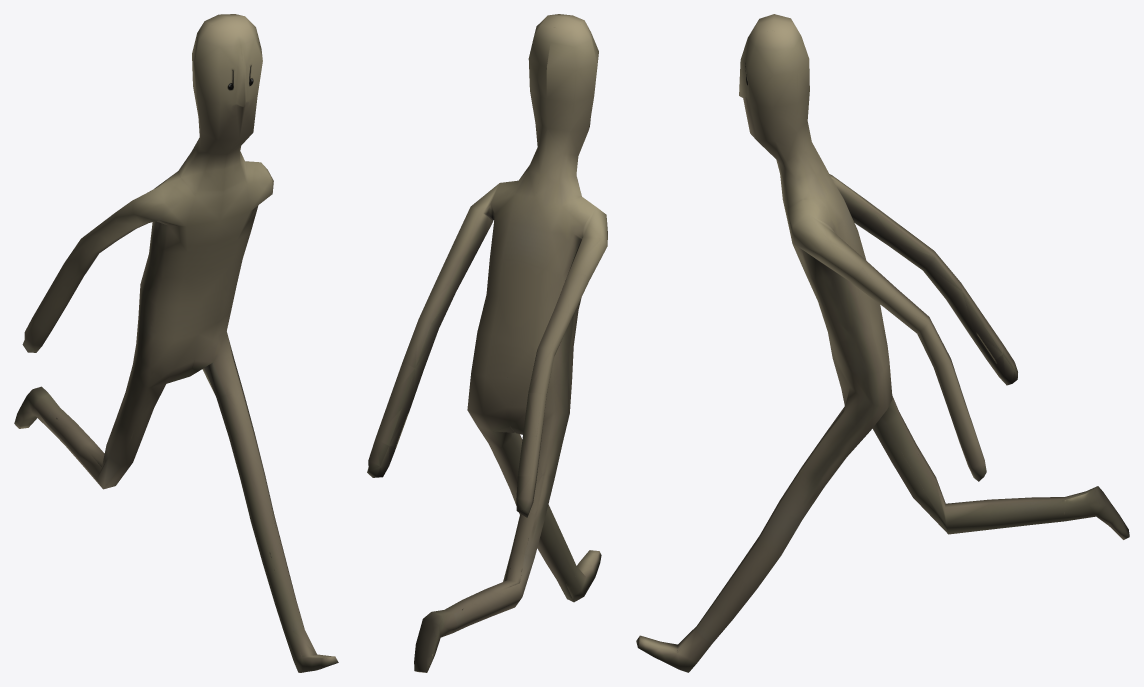
Rendered from noma.obj.
3 renders of one model, left to right at view 1: azimuth 30°, elevation 25°; view 2: azimuth 150°, elevation 25°; view 3: azimuth 270°, elevation 25°, orthographic.
Parts seen in each view (by area): view 1: Group1; view 2: Group1; view 3: Group1.
Part boxes in pixels (bbox=[...]): Group1: bbox=[14, 14, 338, 672]; Group1: bbox=[367, 14, 607, 672]; Group1: bbox=[636, 14, 1129, 672].
Bounding box in the file's own units: 0.9228 × 3.1 × 2.18.
